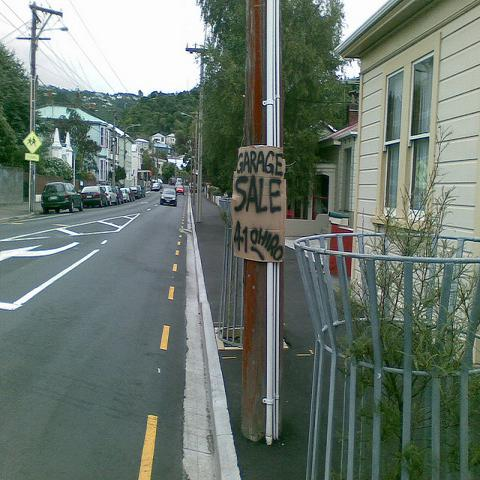car: (41, 181, 84, 214), (81, 185, 109, 208), (102, 184, 118, 206), (160, 187, 177, 207), (110, 186, 124, 204), (120, 187, 131, 202), (150, 179, 161, 191), (134, 185, 145, 197), (130, 187, 140, 199), (176, 185, 185, 195), (130, 188, 136, 202)
